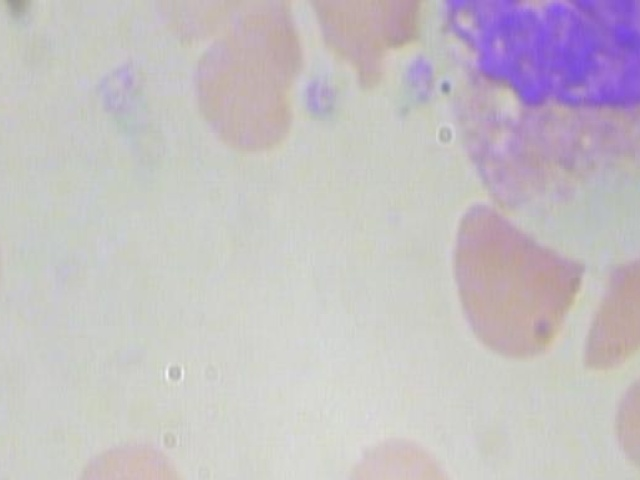Platelets: (393, 48, 436, 111), (301, 74, 342, 127)
RBC: (439, 192, 589, 369), (175, 0, 325, 174), (0, 175, 47, 349), (62, 430, 200, 480), (330, 432, 467, 480)
WBC: (427, 0, 640, 213)
